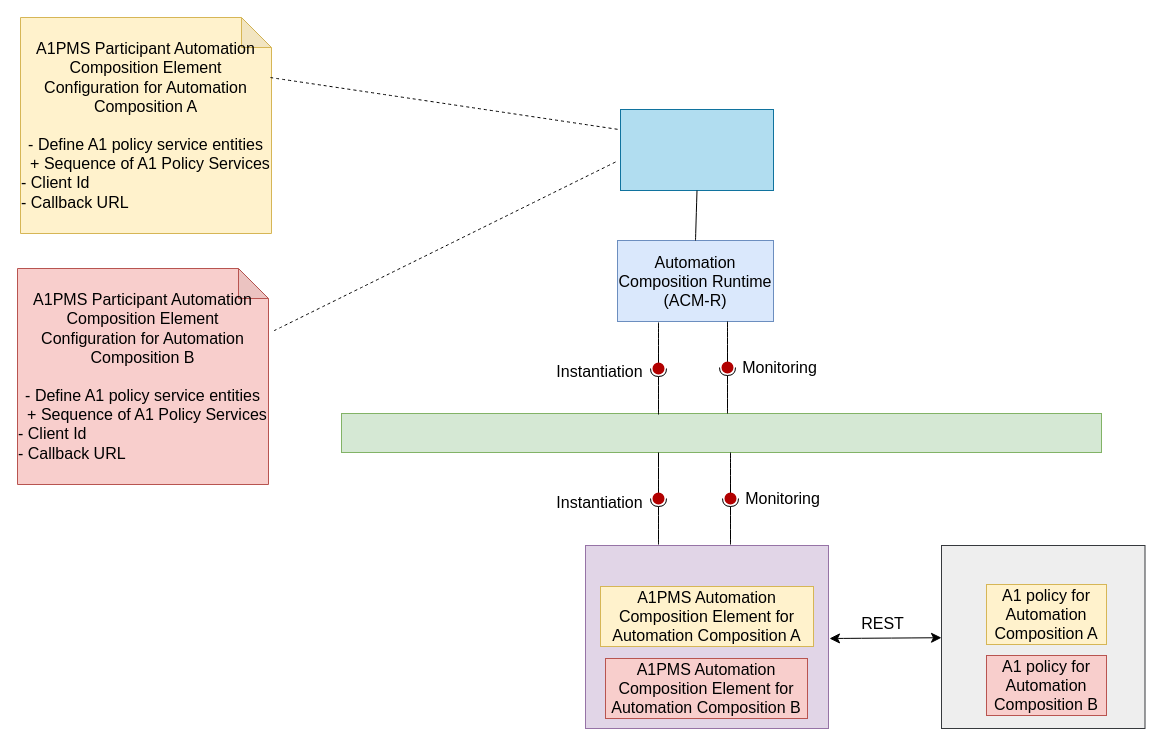
This 1163x746 diagram has some shape labels left out. The box of each missing label's shape, as (x1, y1, x2, y2) in pixels:
A1PMS: (940, 544, 1145, 728)
A1PMS participant: (584, 544, 828, 728)
CLAMP-ACM GUI: (620, 108, 774, 190)
Kafka: (340, 412, 1102, 452)
